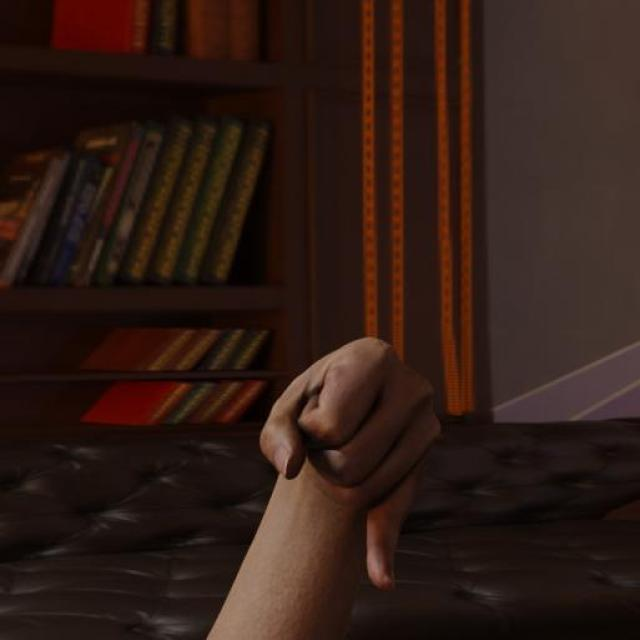J: (259, 333, 443, 591)
